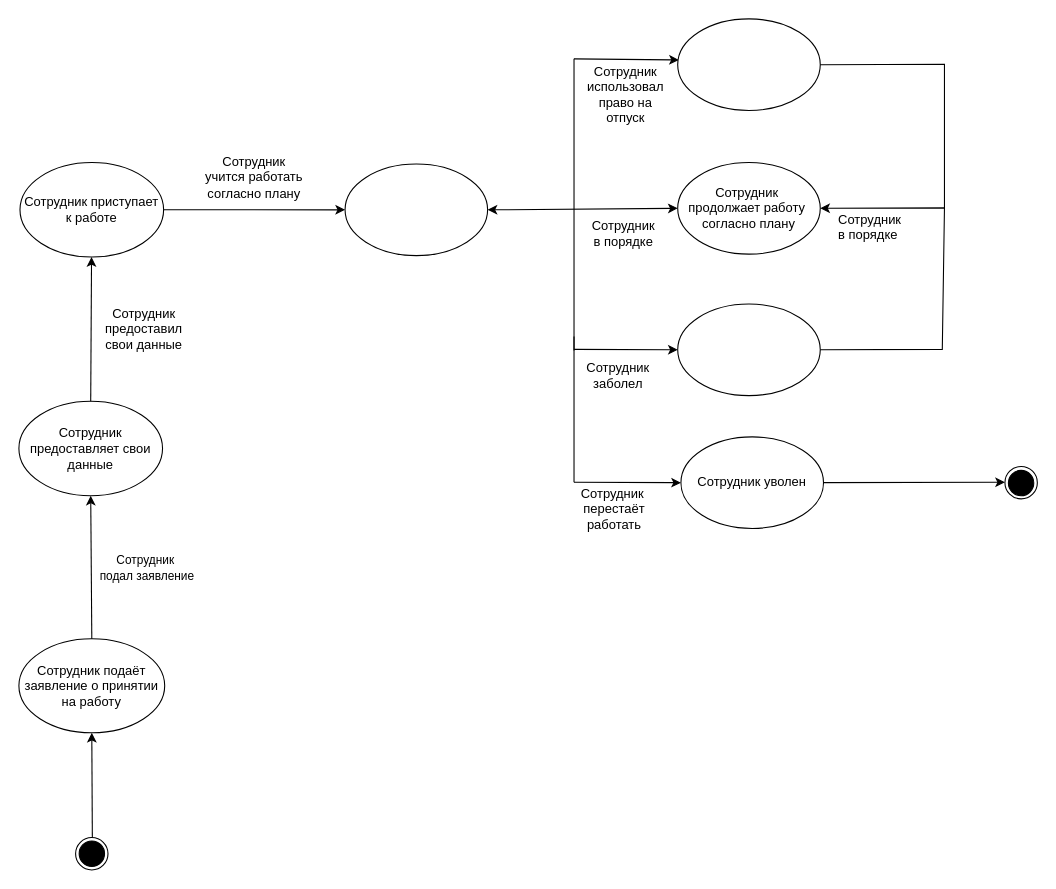
The diagram is 1056 pixels wide and 889 high, and some of its shapes have lost their labels. The shapes that lost their labels are listed below. From the top down, each one's centre as x and y in pixels, then its label:
At (x=748, y=64): "Сотрудник выходит в отпуск".
At (x=416, y=209): "Сотрудник выполняет работу согласно плану".
At (x=748, y=349): "Сотрудник выходит на больничный".
